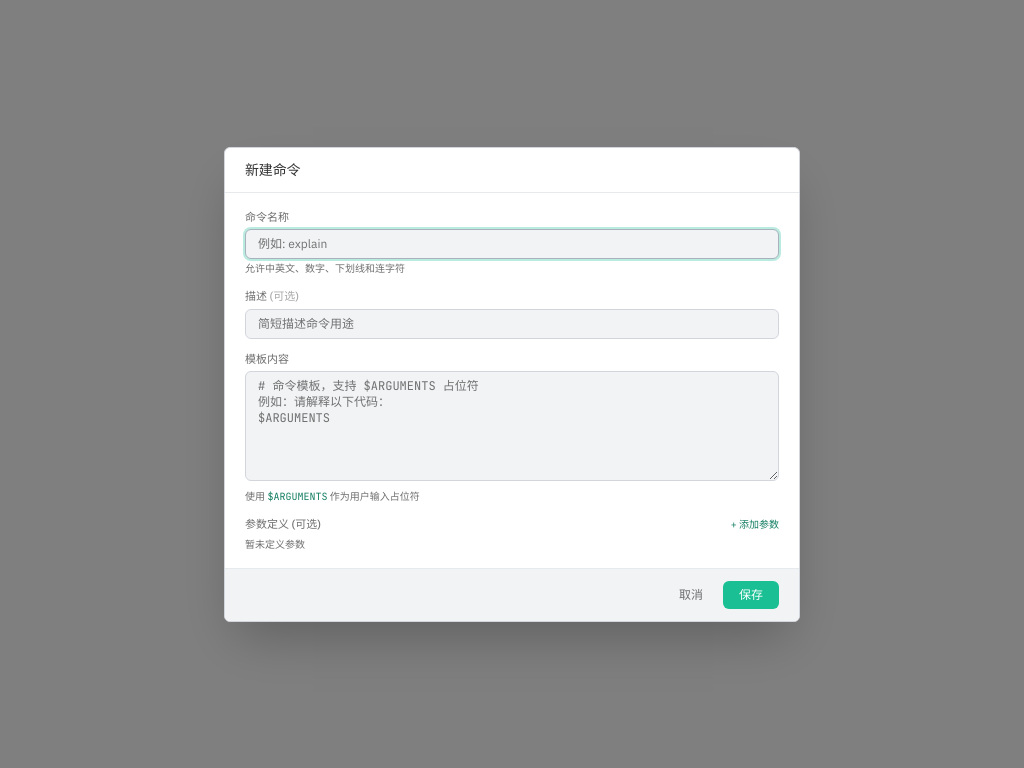
Test: CommandEditModal 后端错误回显（纵深防御） › 主进程返回撞名错误时仍展示（不因前端校验而假设后端不拒绝）
In the field with placeholder "例如: explain": (512, 244) [245, 229, 779, 259], type "free"
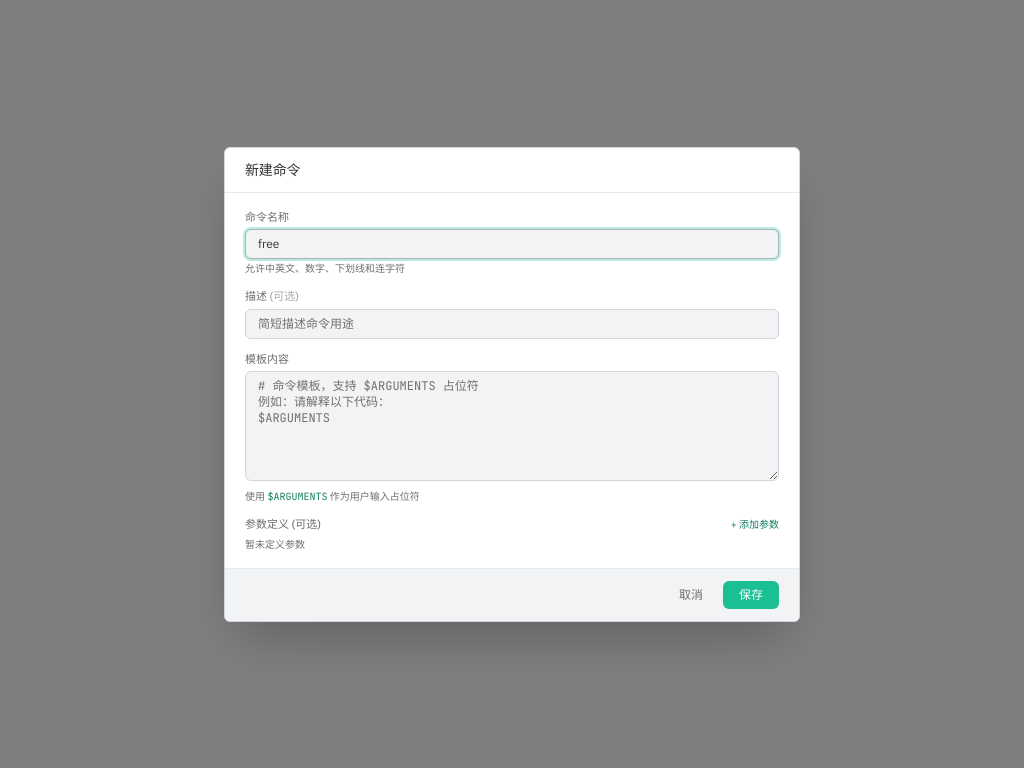
In the text box with placeholder "# 命令模板，支持 $ARGUMENTS 占位符 例如：请解释以下代码： $ARGUMENTS": (512, 426) [245, 371, 779, 481], type "内容"
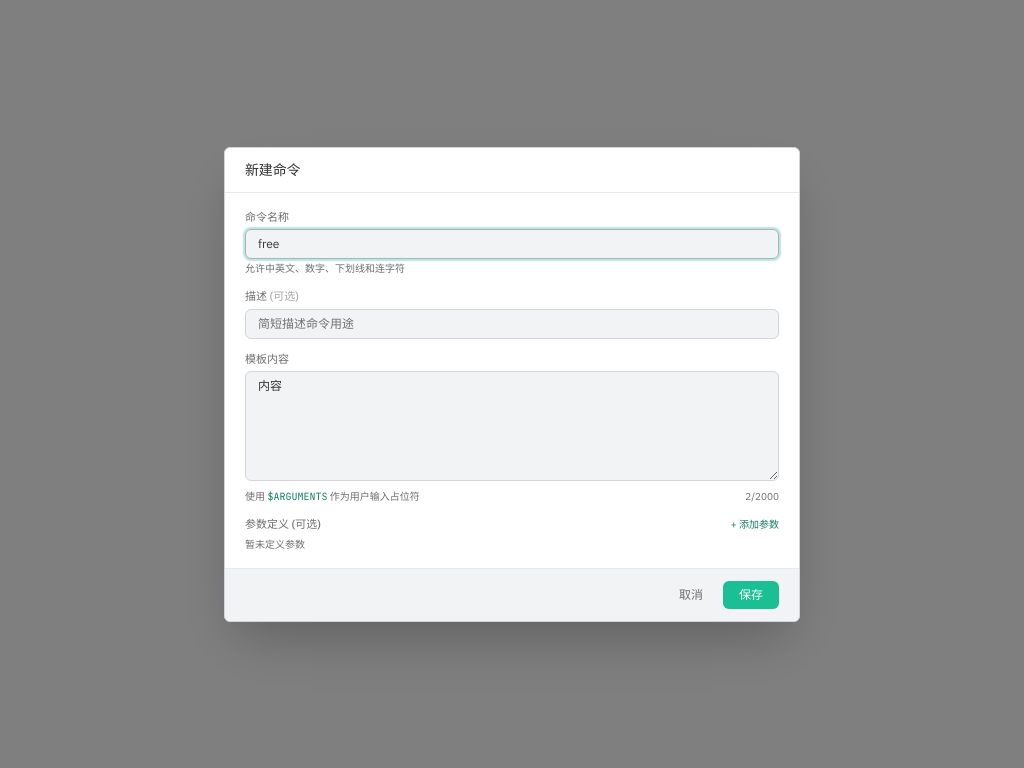
Click the button "保存": (751, 594) [723, 580, 779, 608]
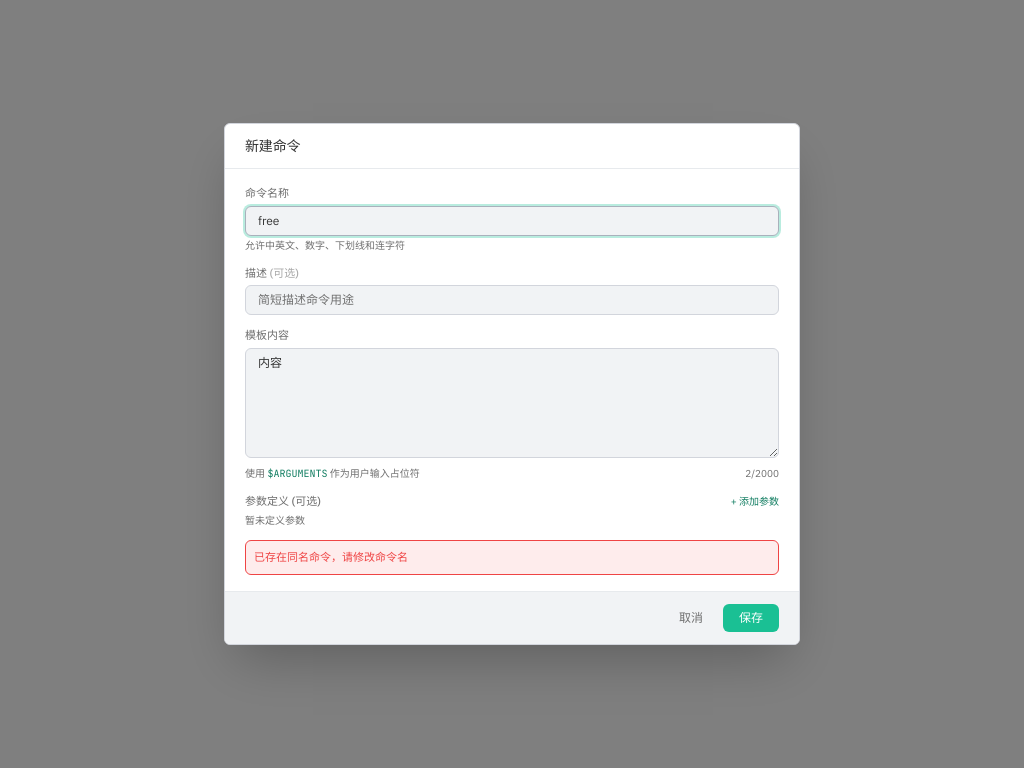
Result: the message reads "已存在同名命令，请修改命令名" at [254, 550, 408, 564]
